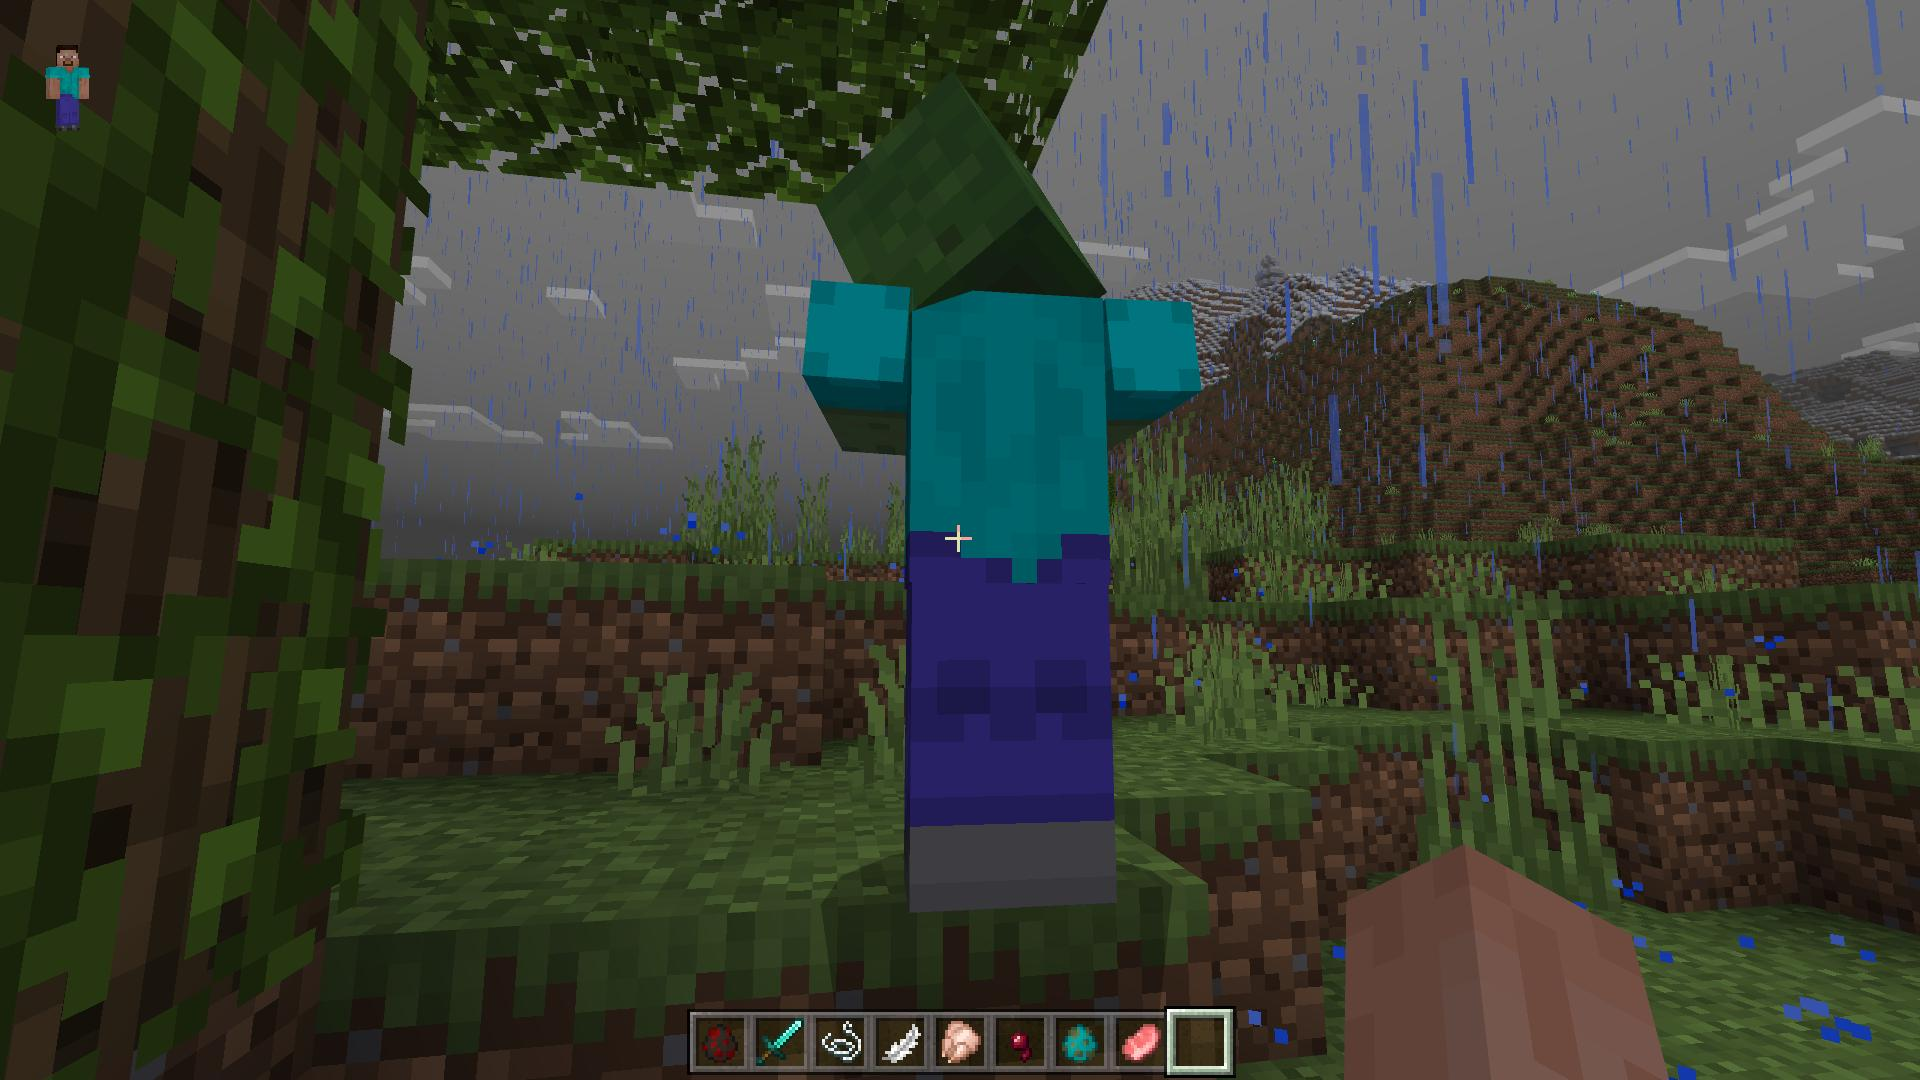zombie: (803, 71, 1205, 911)
